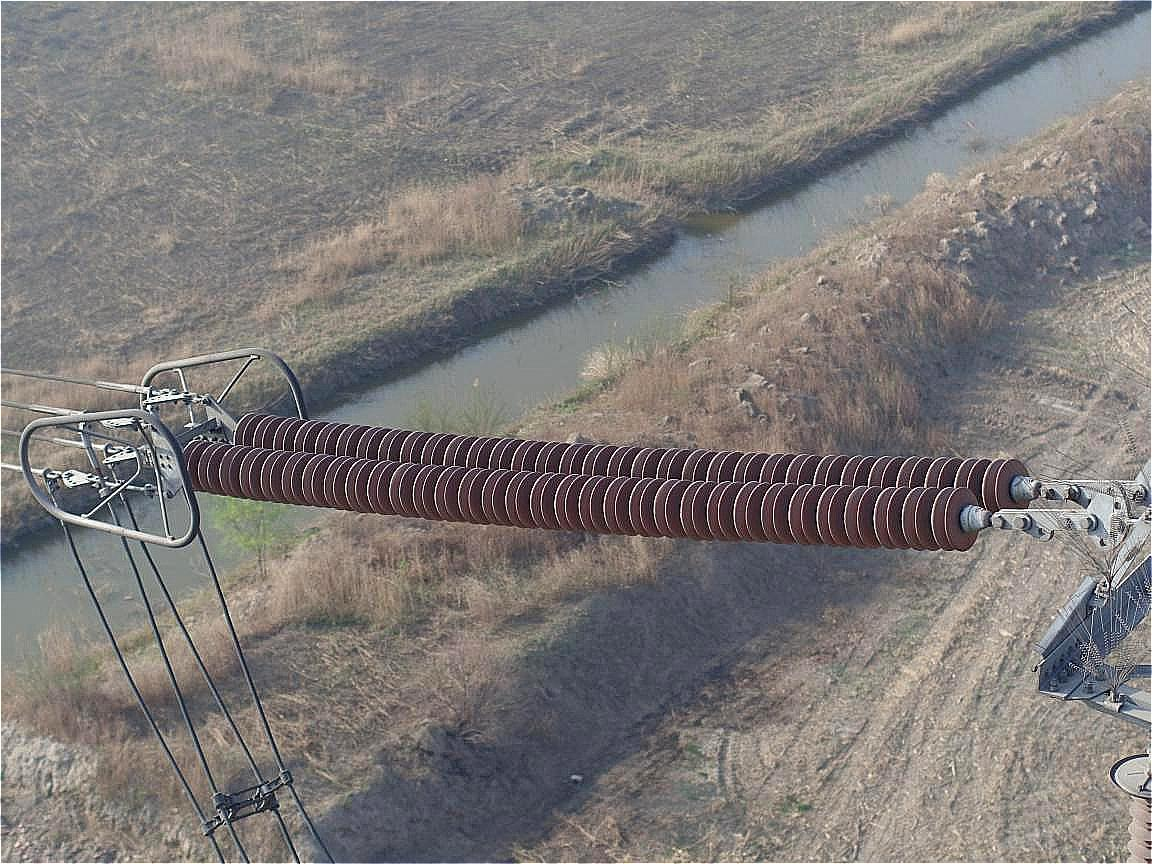insultor2: (129, 406, 1045, 569)
